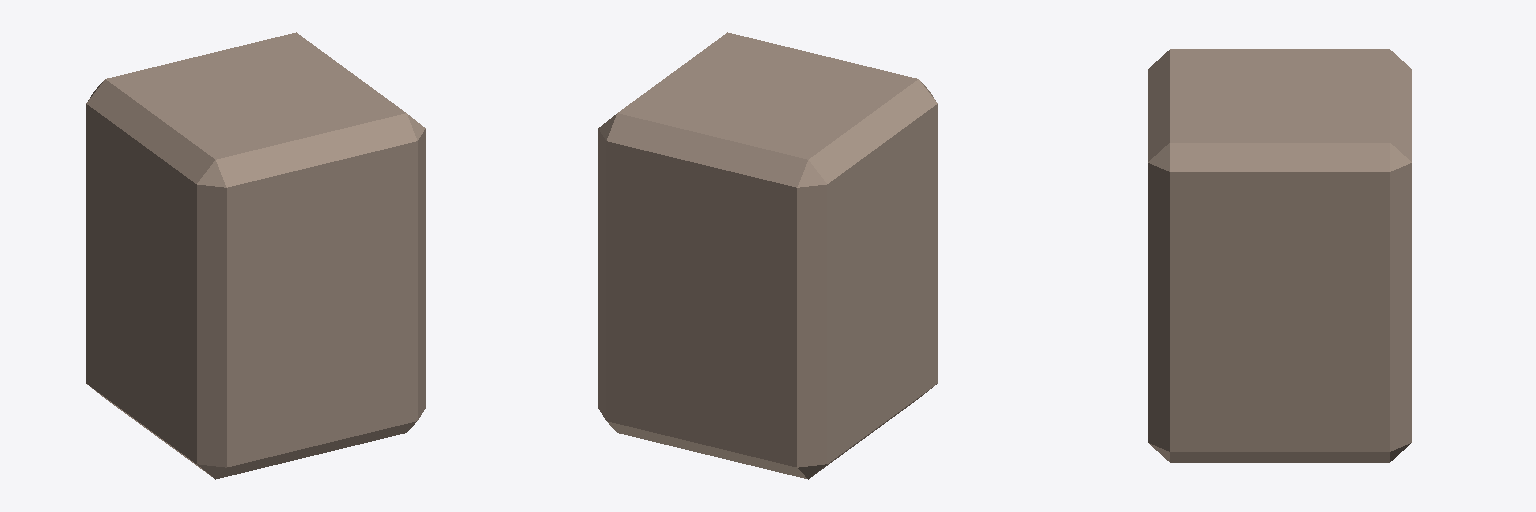
File: Stone_Pillar_Base.obj
3 renders of one model, left to right at view 1: azimuth 30°, elevation 25°; view 2: azimuth 150°, elevation 25°; view 3: azimuth 270°, elevation 25°, orthographic.
Visible parts, largest first — view 1: object1; view 2: object1; view 3: object1.
Part boxes in pixels (bbox=[...]): object1: bbox=[86, 32, 425, 479]; object1: bbox=[598, 32, 937, 479]; object1: bbox=[1148, 49, 1411, 462].
Size of the model in its own units: 0.3 by 0.4 by 0.3.